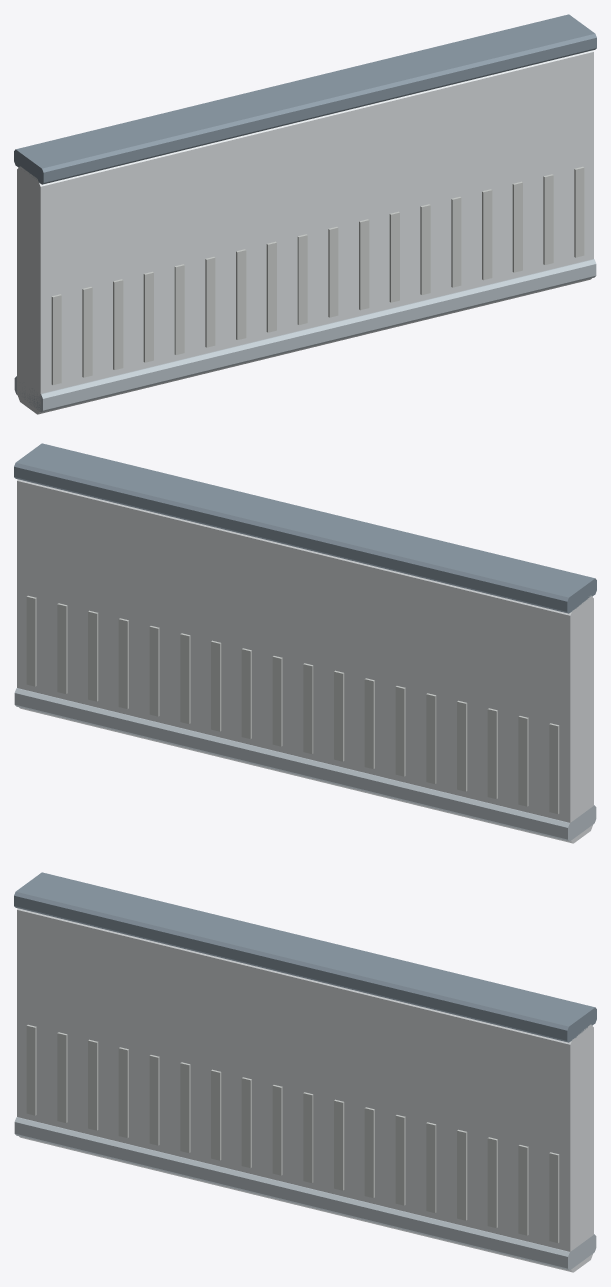
File: wall_school_library.glb
3 renders of one model, top to bottom at view 1: azimuth 30°, elevation 25°; view 2: azimuth 150°, elevation 25°; view 3: azimuth 330°, elevation 25°, orthographic.
Visible parts, largest first — view 1: Part_001, Part_002, Part_003, Part_011, Part_019, Part_025, Part_033, Part_039, Part_009, Part_017, Part_023, Part_027 (+9 smaller); view 2: Part_001, Part_002, Part_003, Part_010, Part_018, Part_024, Part_032, Part_038, Part_008, Part_016, Part_022, Part_026 (+9 smaller); view 3: Part_001, Part_002, Part_003, Part_005, Part_011, Part_019, Part_025, Part_033, Part_009, Part_013, Part_017, Part_021 (+9 smaller).
Boxes of the visible parts, x1,y1,x2,y2 form: Part_001: (17, 50, 593, 414); Part_002: (14, 14, 596, 184); Part_003: (14, 259, 596, 412); Part_011: (143, 271, 153, 362); Part_019: (266, 241, 276, 332); Part_025: (359, 219, 369, 310); Part_033: (482, 189, 492, 280); Part_039: (574, 166, 584, 257); Part_009: (113, 279, 123, 369); Part_017: (236, 249, 246, 339); Part_023: (328, 227, 338, 317); Part_027: (389, 211, 399, 302); Part_001: (17, 479, 593, 843); Part_002: (14, 443, 596, 613); Part_003: (14, 688, 596, 841); Part_010: (457, 700, 467, 791); Part_018: (334, 670, 344, 761); Part_024: (241, 648, 251, 739); Part_032: (118, 618, 128, 709); Part_038: (26, 595, 36, 686); Part_008: (487, 708, 497, 798); Part_016: (364, 678, 374, 768); Part_022: (272, 656, 282, 746); Part_026: (211, 640, 221, 731); Part_001: (17, 908, 593, 1272); Part_002: (14, 872, 596, 1042); Part_003: (14, 1117, 596, 1270); Part_005: (26, 1024, 36, 1115); Part_011: (118, 1047, 128, 1138); Part_019: (241, 1077, 251, 1168); Part_025: (334, 1099, 344, 1190); Part_033: (457, 1129, 467, 1220); Part_009: (88, 1039, 98, 1130); Part_013: (149, 1055, 159, 1145); Part_017: (211, 1069, 221, 1160); Part_021: (272, 1085, 282, 1175).
Size of the model in its own units: 2.7 by 1.16 by 0.25.
